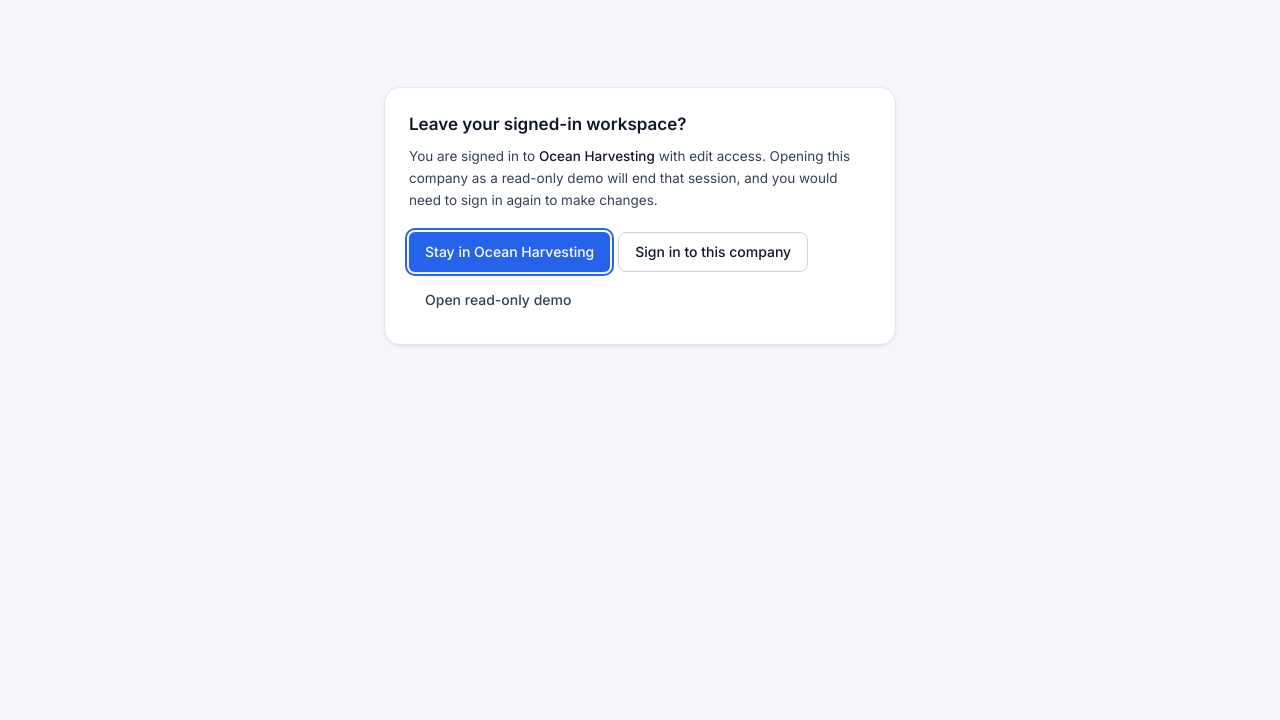
Scenario: switching workspaces in demo mode › replaces the session only after the user chooses the read-only demo
Click the button "Open read-only demo". click: point(498, 300)
box: 409,280 -> 587,320
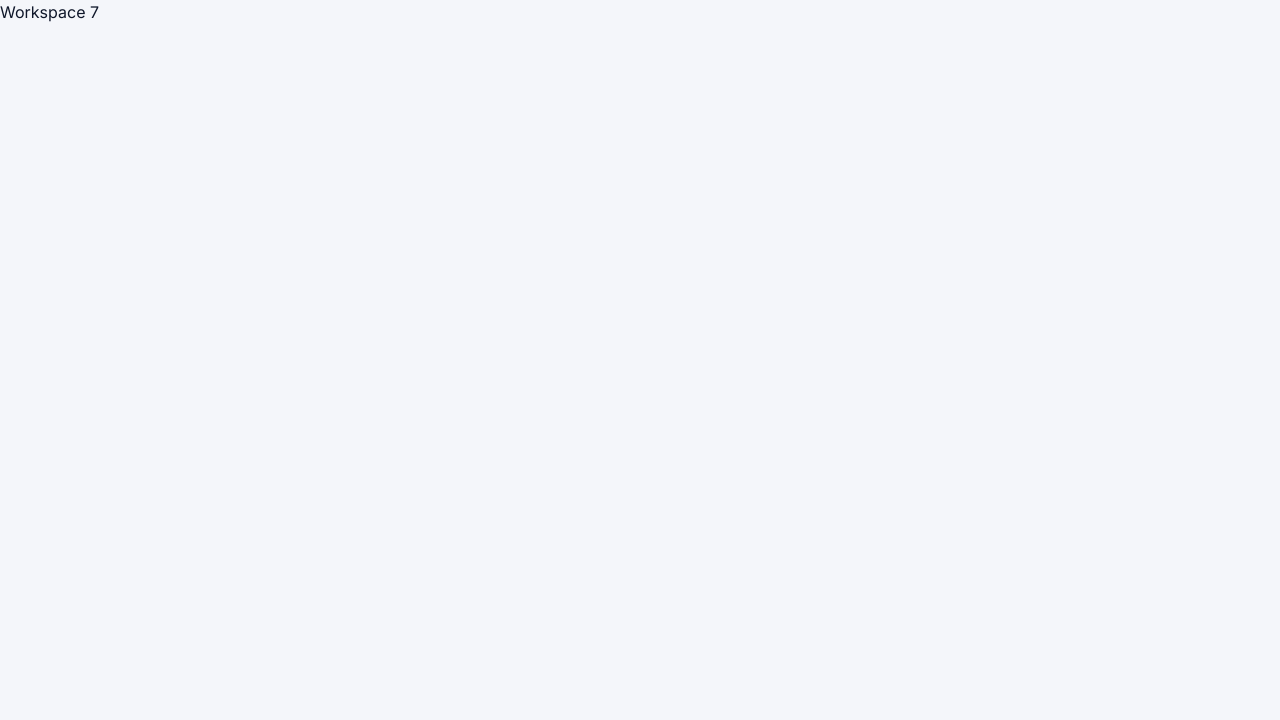
Check: the text "Workspace 7" is shown, box 0,2 -> 99,22
